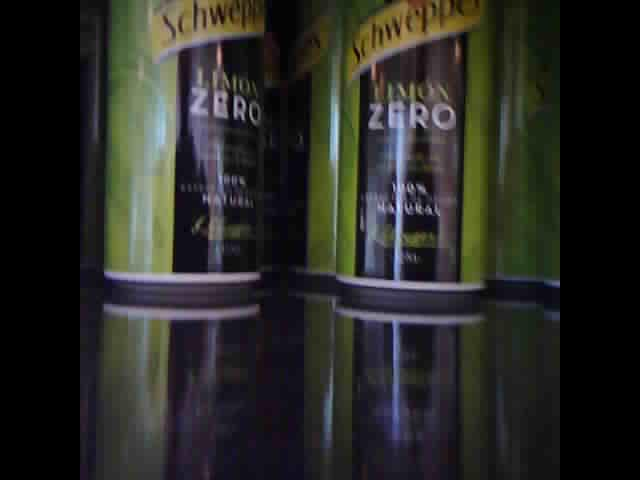schweppes: (101, 3, 269, 294), (331, 1, 494, 290), (489, 1, 562, 285), (295, 2, 343, 281)
